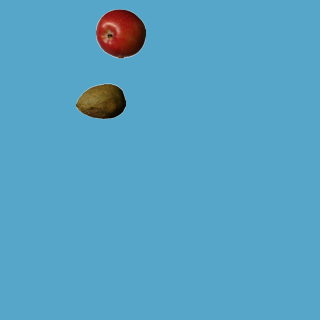Apple Braeburn: (95, 8, 145, 58)
Papaya: (75, 76, 125, 126)
